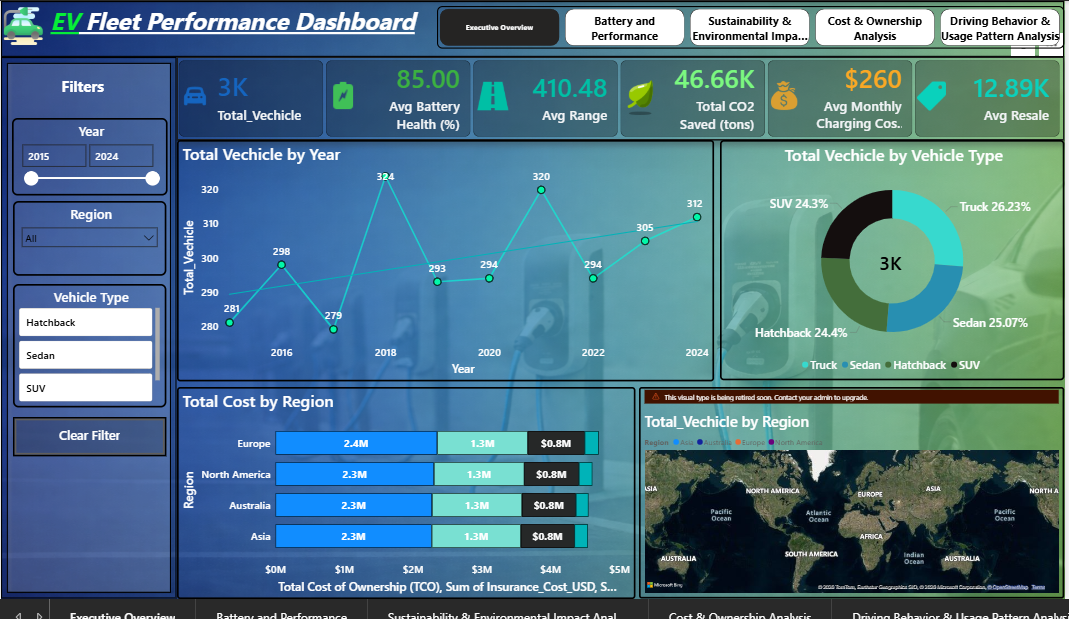

What the dashboard file says about the page in this screenshot:
{"tool":"powerbi","page":{"name":"Executive Overview","canvas":[1920,1080],"ordinal":0},"visuals":[{"type":"shape","box":[0,100.8,317.5,978.2],"z":0},{"type":"filledMap","fields":{"Series":["electric_vehicle_analytics.Region"]},"box":[1152,697.8,768,381.9],"z":1000},{"type":"textbox","box":[0,0,1919.8,101.1],"z":2000},{"type":"image","box":[0,0,79.5,86.7],"z":3000},{"type":"cardVisual","fields":{"Data":["Measure_table.Total_Vechicle","Measure_table.Avg Battery Health (%)","Measure_table.Avg Range (km)","Measure_table.Total CO2 Saved (tons)","Measure_table.Avg Monthly Charging Cost (USD)","Measure_table.Avg Resale Value"]},"box":[317.9,101.2,1602.1,150.7],"z":4000},{"type":"donutChart","title":"Total Vechicle by Vehicle Type","fields":{"Y":["Measure_table.Total_Vechicle"],"Category":["electric_vehicle_analytics.Vehicle_Type"]},"box":[1298.5,251,622,434],"z":5000},{"type":"lineChart","title":"Total Vechicle by Year","fields":{"Y":["Measure_table.Total_Vechicle"],"Category":["electric_vehicle_analytics.Year"]},"box":[317.9,251.9,970.3,435.6],"z":6000},{"type":"cardVisual","fields":{"Data":["Measure_table.Total_Vechicle"]},"box":[1546.3,429.4,121.8,82.6],"z":7000},{"type":"barChart","title":"Total Cost by Region","fields":{"Category":["electric_vehicle_analytics.Region"],"Y":["Measure_table.Total Cost of Ownership (TCO)","Sum(cost_ownership.Insurance_Cost_USD)","Sum(cost_ownership.Maintenance_Cost_USD)","Sum(cost_ownership.Monthly_Charging_Cost_USD)"]},"box":[317.9,697.8,828,383],"z":8000},{"type":"slicer","title":"Year","fields":{"Values":["electric_vehicle_analytics.Year"]},"box":[20.6,210.6,280.8,140.4],"z":9000},{"type":"slicer","title":"Region","fields":{"Values":["electric_vehicle_analytics.Region"]},"box":[21.5,360.4,276.7,135.2],"z":10000},{"type":"advancedSlicerVisual","title":"Vehicle Type","fields":{"Values":["electric_vehicle_analytics.Vehicle_Type"]},"box":[21.5,510.6,276.7,223.1],"z":11000},{"type":"textbox","box":[16.5,130.1,262.2,61.9],"z":12000},{"type":"actionButton","box":[21.5,750.8,276.7,70.8],"z":13000},{"type":"pageNavigator","box":[787.3,8.6,1132.7,77.2],"z":14000}]}

Visuals, with their boxes in screenshot pixels (x1, y1, x2, y2), scaled from the page's 1920x1080 canvas onto the 1069x619 screenshot:
shape: bbox(0, 58, 177, 618)
filledMap - electric_vehicle_analytics.Region: bbox(641, 400, 1068, 618)
textbox: bbox(0, 0, 1068, 58)
image: bbox(0, 0, 44, 50)
cardVisual - Measure_table.Total_Vechicle x Measure_table.Avg Battery Health (%): bbox(177, 58, 1068, 144)
"Total Vechicle by Vehicle Type" donutChart: bbox(723, 144, 1068, 393)
"Total Vechicle by Year" lineChart: bbox(177, 144, 717, 394)
cardVisual - Measure_table.Total_Vechicle: bbox(861, 246, 929, 293)
"Total Cost by Region" barChart: bbox(177, 400, 638, 618)
"Year" slicer: bbox(11, 121, 168, 201)
"Region" slicer: bbox(12, 207, 166, 284)
"Vehicle Type" advancedSlicerVisual: bbox(12, 293, 166, 421)
textbox: bbox(9, 75, 155, 110)
actionButton: bbox(12, 430, 166, 471)
pageNavigator: bbox(438, 5, 1068, 49)
